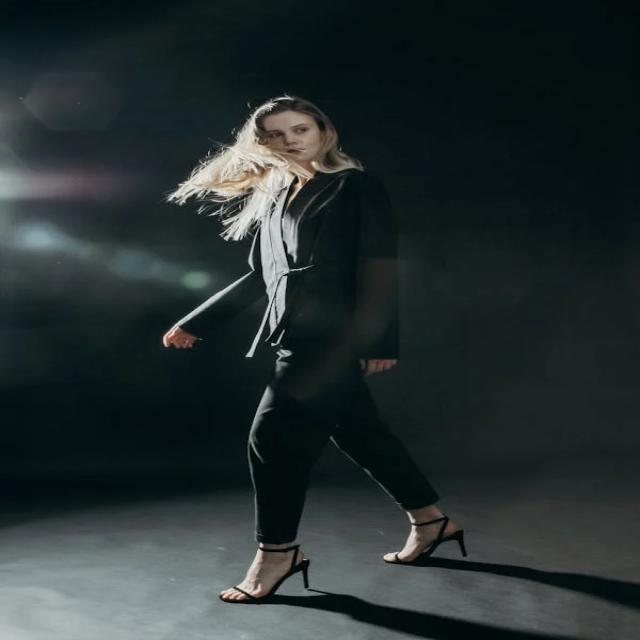Edited images: (137, 82, 517, 610)
